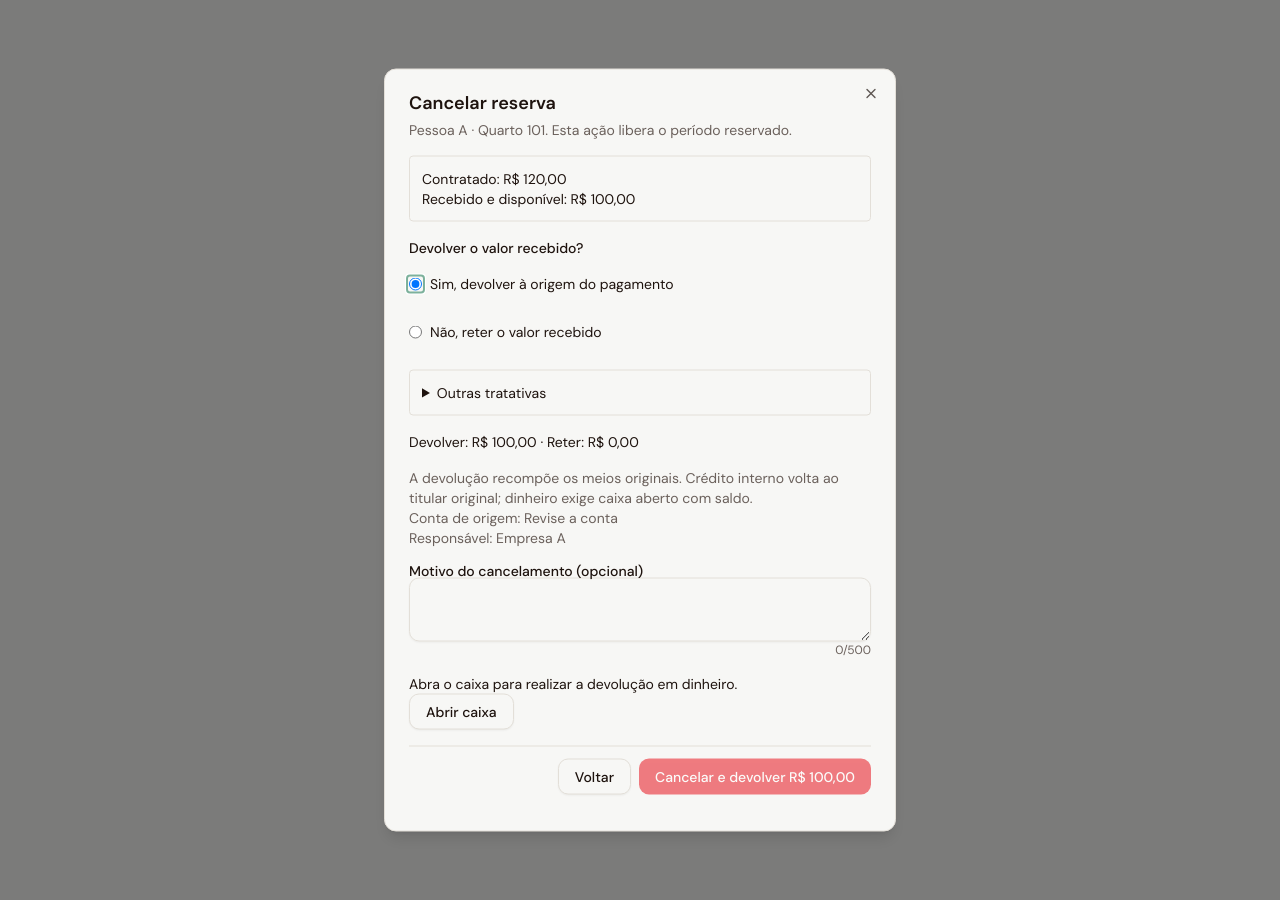
Scenario: Atendimento compartilhado › não exige caixa quando a devolução parcial usa somente o PIX mais recente
The width and height of the screenshot is (1280, 900).
Check: the button "Cancelar e devolver R$ 100,00" is disabled, box x1=639 y1=758 x2=871 y2=794
Click the heading "Outras tratativas" at (492, 392), box x1=437 y1=384 x2=546 y2=402
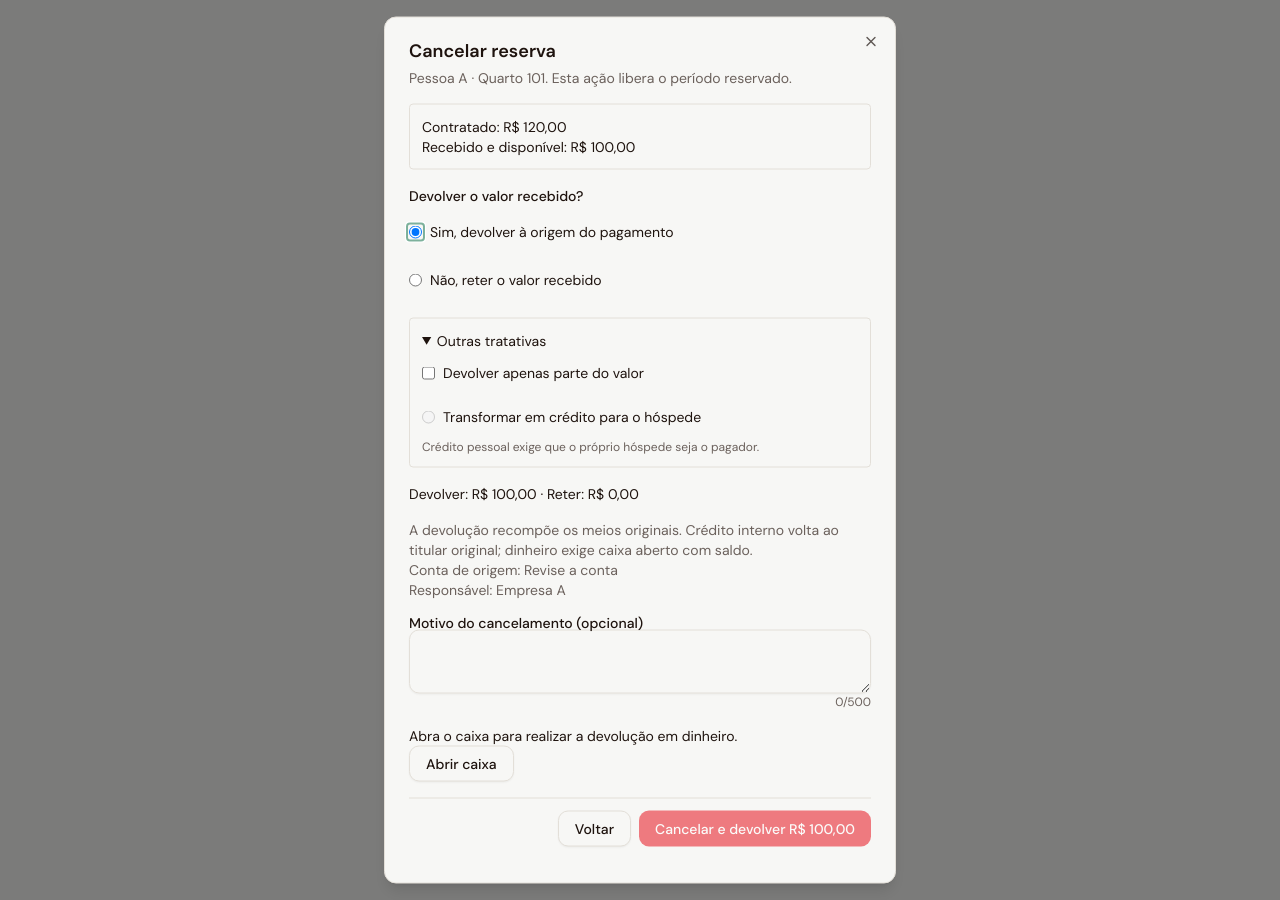
Click the checkbox labelled "Devolver apenas parte do valor" at (428, 372), box x1=422 y1=366 x2=435 y2=379
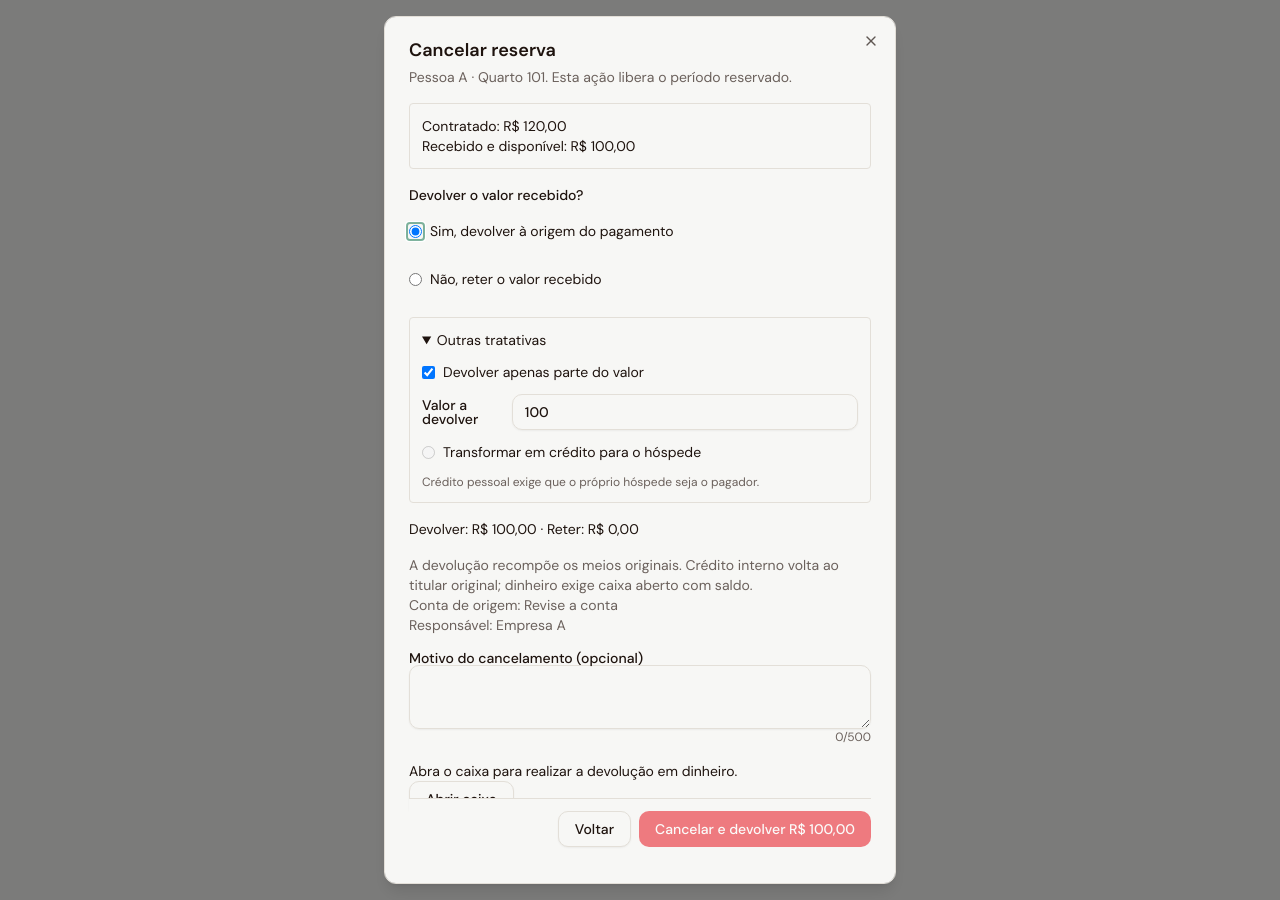
Replace the text in the number field labelled "Valor a devolver" with "50" at (685, 412), box x1=512 y1=394 x2=858 y2=430
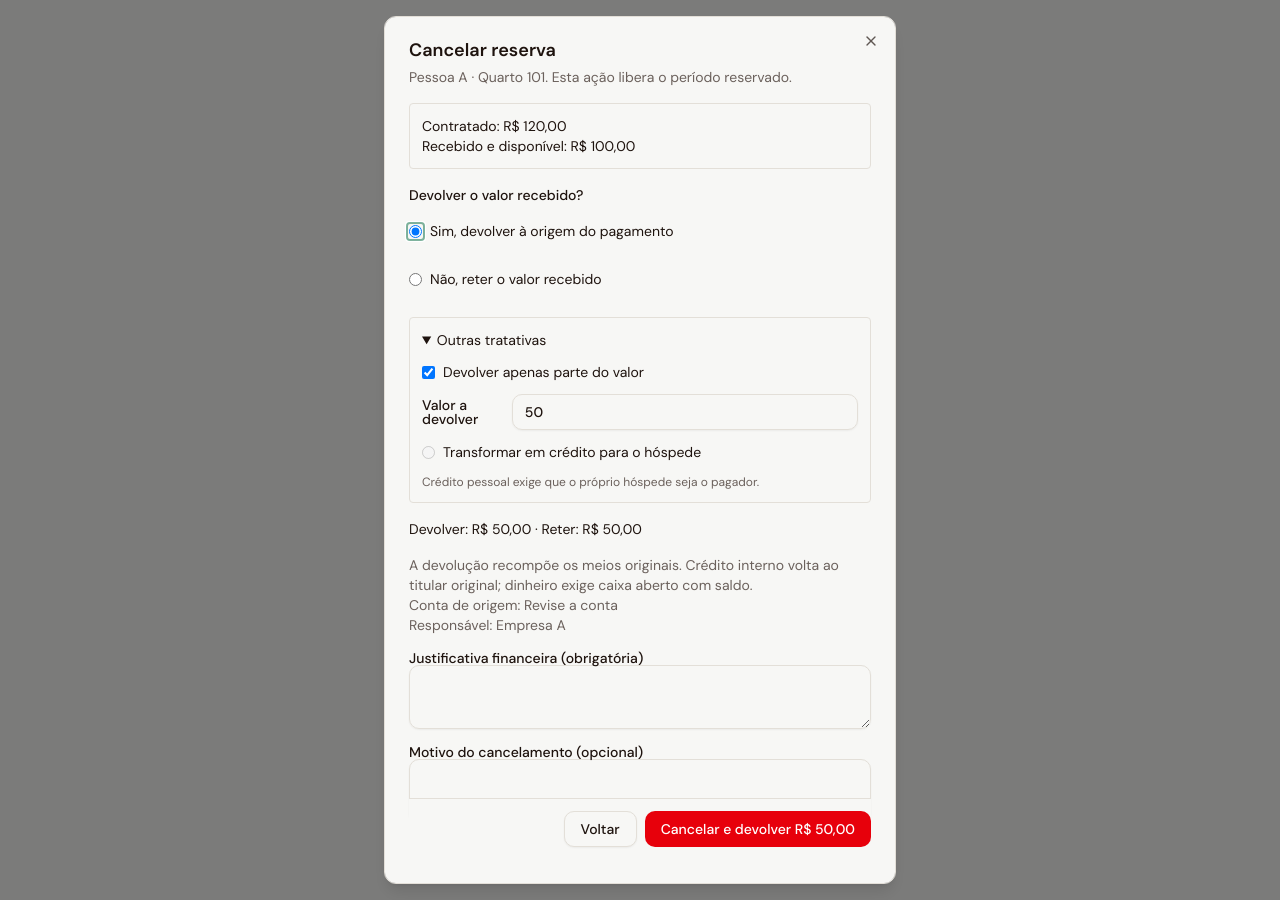
Check: the button "Cancelar e devolver R$ 50,00" is enabled, box x1=645 y1=811 x2=871 y2=847
Check: the text "Abra o caixa para realizar a devolução em dinheiro." is gone
